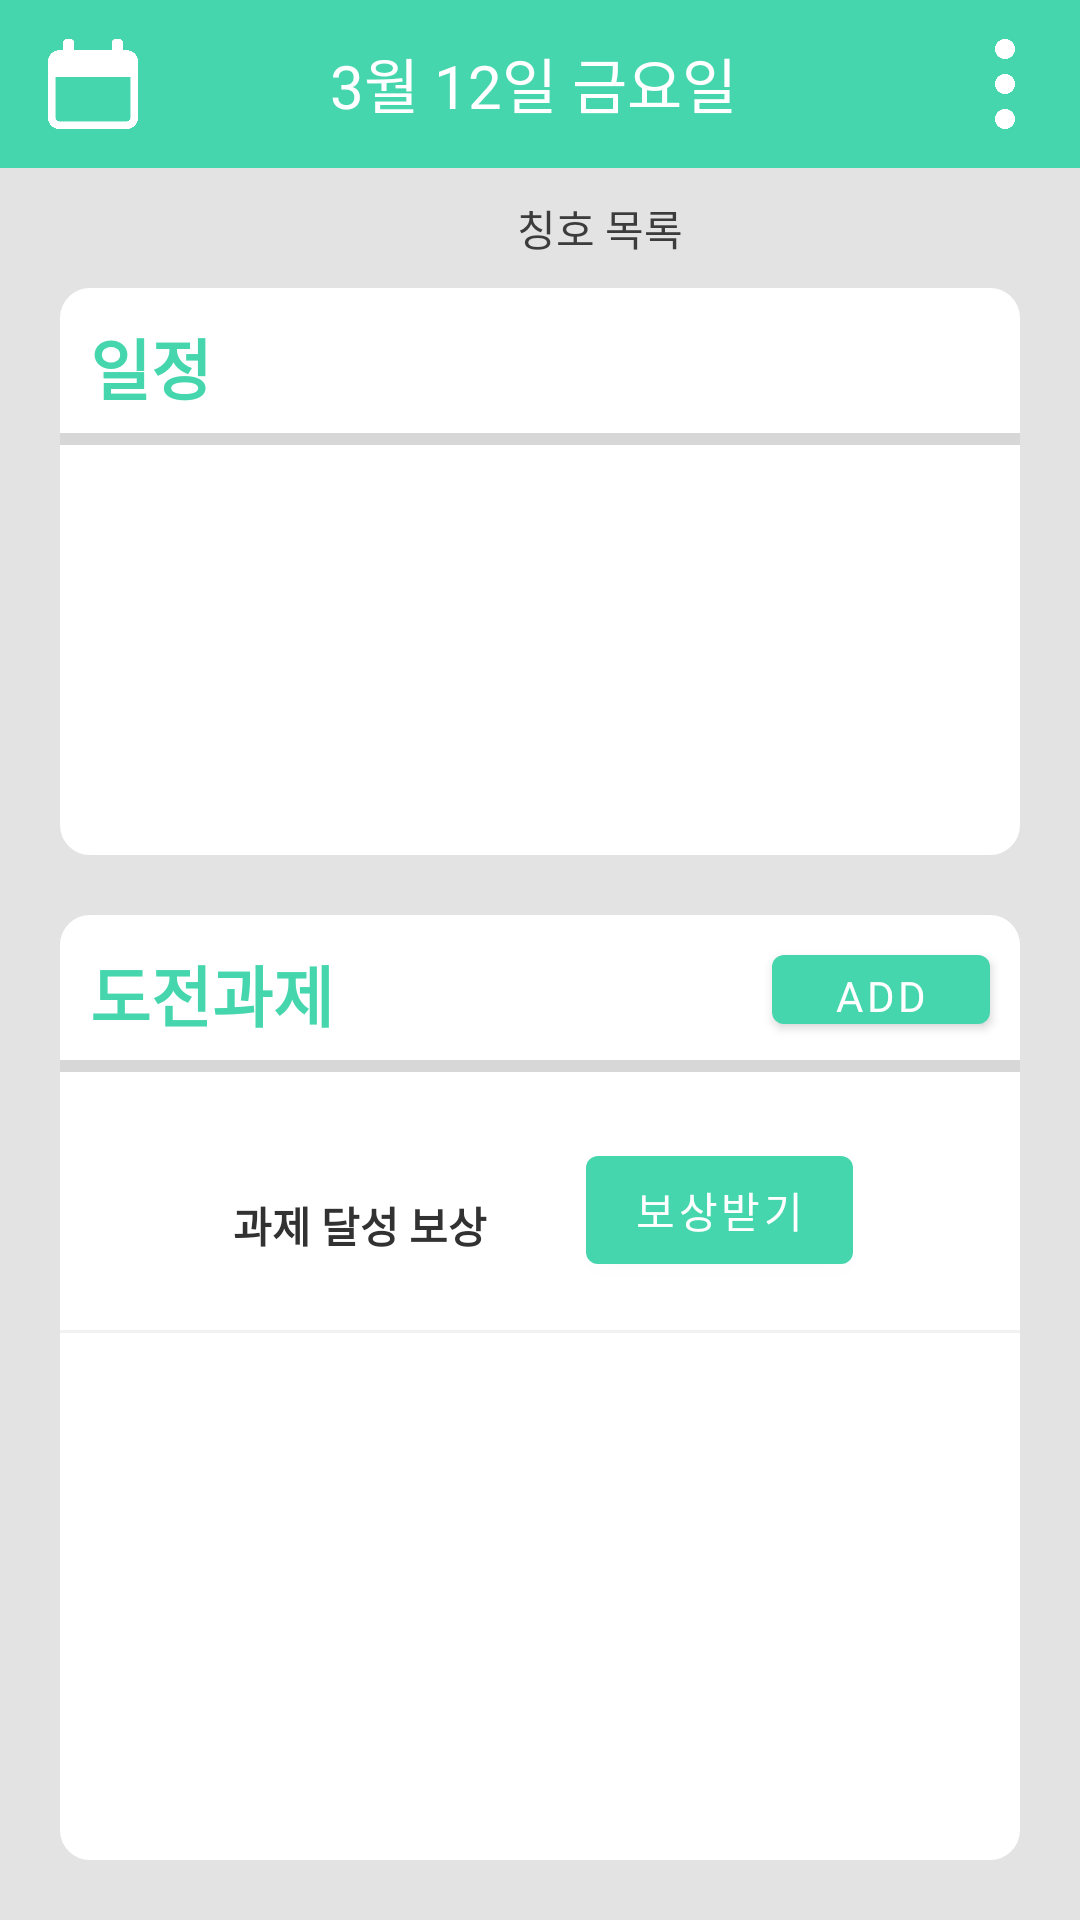

Locate icon controls on the screen. Image size 1080×1920, boxes as (x1, y1, x2, y2).
calendar: (48, 39, 138, 129)
more: (995, 39, 1015, 129)
